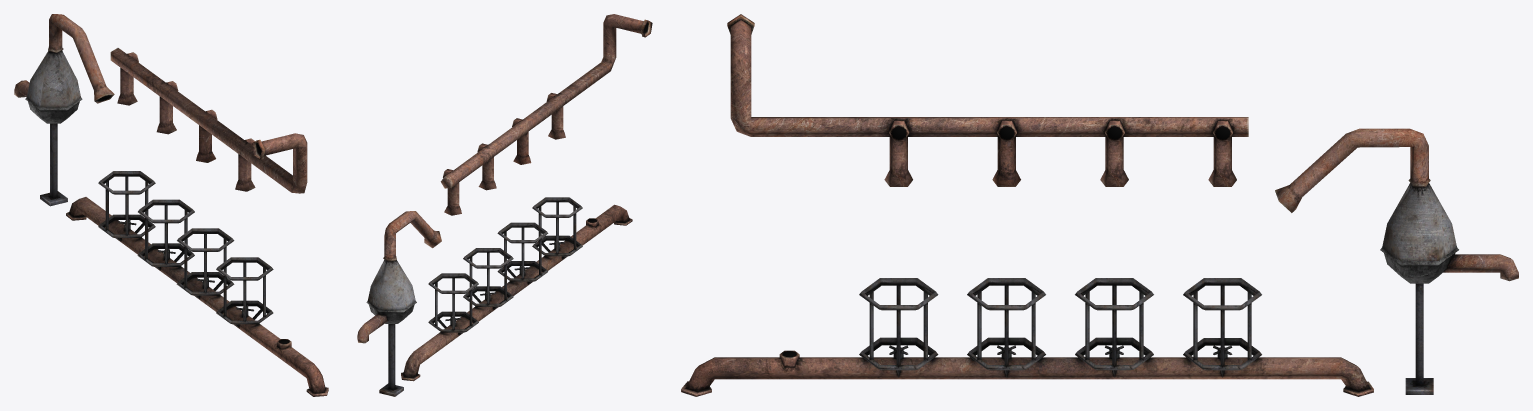
The model's file is acid_machine.dae.
3 views of the same model, side by side, from view 1: azimuth 30°, elevation 25°; view 2: azimuth 150°, elevation 25°; view 3: azimuth 270°, elevation 25° (orthographic). The views are drawn at different scales.
Parts seen in each view (by area): view 1: acid_machine_base; view 2: acid_machine_base; view 3: acid_machine_base.
Part boxes in pixels (x1,y1,x2,y2): acid_machine_base: [14, 14, 328, 396]; acid_machine_base: [357, 14, 652, 396]; acid_machine_base: [681, 14, 1518, 396].
Bounding box in the file's own units: 0.317 × 2.49 × 1.13.
1 material, 1 textured.
